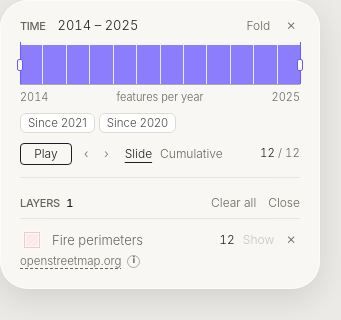
Test: LayerStack data console › folds the time panel to one line, and opens it again
The width and height of the screenshot is (341, 320).
Click the button with test id "time-fold" at (258, 26), box [246, 17, 270, 35]
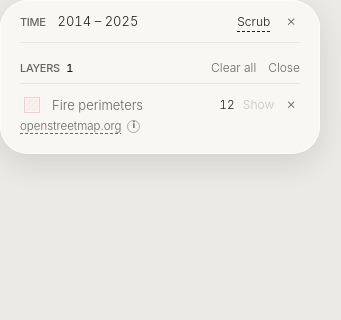
Check: the element with test id "time-scrubber" is gone
Check: the element with test id "time-folded" is shown, box [20, 13, 300, 32]
Click the button with test id "time-open" at (254, 22), box [237, 13, 270, 32]
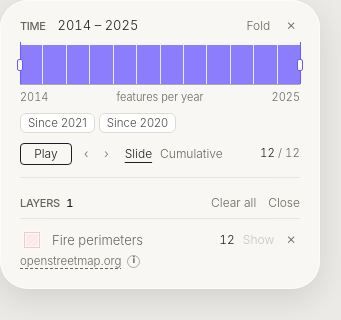
Check: the element with test id "time-scrubber" is shown, box [0, 0, 320, 177]
